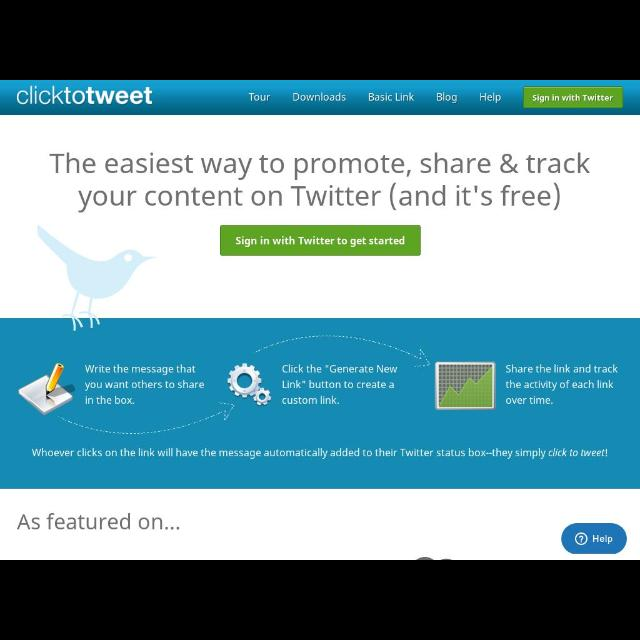icon: (574, 532, 588, 544)
image: (35, 225, 157, 331), (436, 362, 496, 411), (18, 364, 74, 416), (17, 86, 154, 105), (227, 364, 271, 406)
text: (49, 154, 590, 212), (32, 448, 610, 460), (84, 364, 204, 406), (281, 364, 397, 406), (505, 364, 619, 406), (18, 513, 180, 531), (236, 236, 404, 248), (532, 95, 614, 104), (292, 92, 346, 101), (368, 92, 416, 101), (437, 92, 458, 104), (481, 92, 502, 104), (592, 534, 612, 544), (250, 93, 270, 101)
textbutton: (220, 226, 422, 256), (524, 86, 624, 108), (562, 524, 626, 554)
toolbar: (1, 80, 640, 116)
